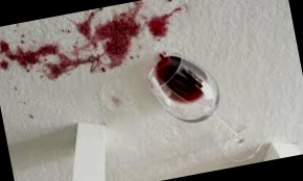wine: (77, 0, 181, 79), (0, 27, 82, 93)
